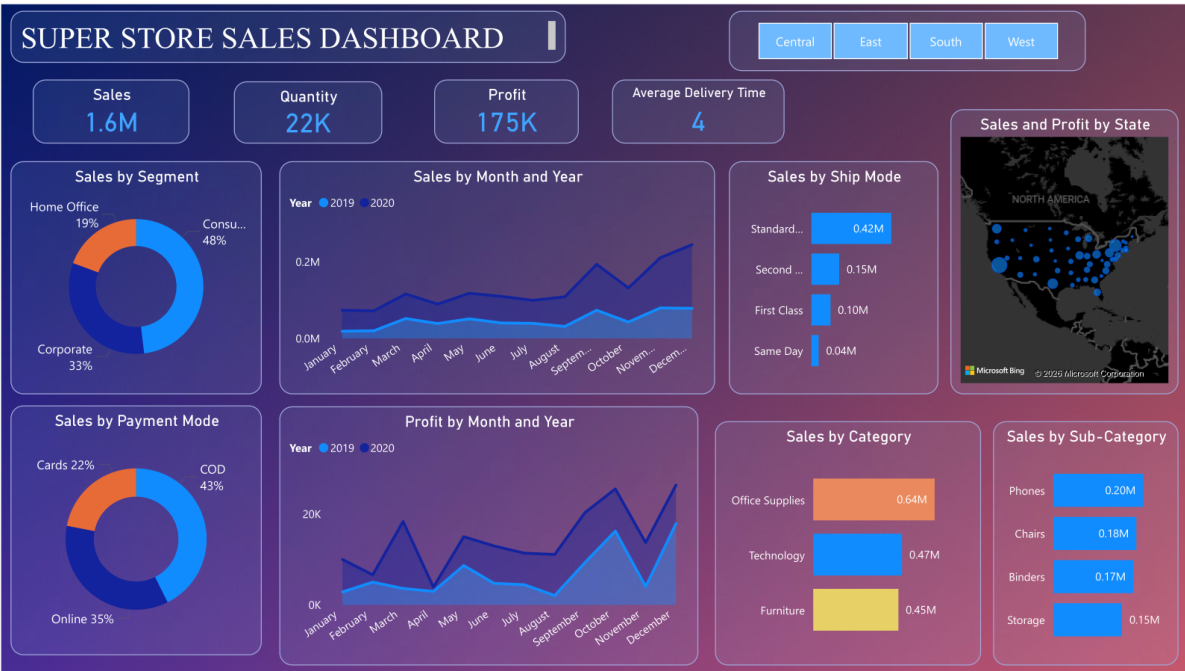

Layout of this report page (visuals, bound fields, positions):
{"tool":"powerbi","page":{"name":"Page 1","canvas":[1280,720],"ordinal":0},"visuals":[{"type":"clusteredBarChart","title":"Sales by Category","fields":{"Category":["SuperStore_Sales_Dataset.Category"],"Y":["Sum(SuperStore_Sales_Dataset.Sales)"]},"box":[769.7,448.8,287.1,263],"z":0},{"type":"clusteredBarChart","title":"Sales by Sub-Category","fields":{"Y":["Sum(SuperStore_Sales_Dataset.Sales)"],"Category":["SuperStore_Sales_Dataset.Sub-Category"]},"box":[1070.1,448.8,200.3,263],"z":1000},{"type":"clusteredBarChart","title":"Sales by Ship Mode","fields":{"Y":["Sum(SuperStore_Sales_Dataset.Sales)"],"Category":["SuperStore_Sales_Dataset.Ship Mode"]},"box":[785.4,168.9,225.6,250.9],"z":2000},{"type":"stackedAreaChart","title":"Sales by Month and Year","fields":{"Y":["Sum(SuperStore_Sales_Dataset.Sales)"],"Category":["SuperStore_Sales_Dataset.Order Date.Variation.Date Hierarchy.Month","SuperStore_Sales_Dataset.Order Date.Variation.Date Hierarchy.Day"],"Series":["SuperStore_Sales_Dataset.Order Date.Variation.Date Hierarchy.Year"]},"box":[300.4,168.9,469.3,250.9],"z":3000},{"type":"stackedAreaChart","title":"Profit by Month and Year","fields":{"Category":["SuperStore_Sales_Dataset.Order Date.Variation.Date Hierarchy.Month","SuperStore_Sales_Dataset.Order Date.Variation.Date Hierarchy.Day"],"Series":["SuperStore_Sales_Dataset.Order Date.Variation.Date Hierarchy.Year"],"Y":["Sum(SuperStore_Sales_Dataset.Profit)"]},"box":[300.4,433.1,451.2,278.7],"z":4000},{"type":"map","title":"Sales and Profit by State","fields":{"Category":["SuperStore_Sales_Dataset.State"],"Size":["Sum(SuperStore_Sales_Dataset.Sales)"]},"box":[1024.3,113.4,246.1,306.4],"z":5000},{"type":"donutChart","title":"Sales by Segment","fields":{"Category":["SuperStore_Sales_Dataset.Segment"],"Y":["Sum(SuperStore_Sales_Dataset.Sales)"]},"box":[9.7,168.9,271.4,250.9],"z":6000},{"type":"donutChart","title":"Sales by Payment Mode","fields":{"Y":["Sum(SuperStore_Sales_Dataset.Sales)"],"Category":["SuperStore_Sales_Dataset.Payment Mode"]},"box":[9.7,431.9,271.4,269],"z":7000},{"type":"slicer","fields":{"Values":["SuperStore_Sales_Dataset.Region"]},"box":[785.4,7.2,384.9,65.1],"z":8000},{"type":"textbox","box":[9.7,7.2,599.6,55.5],"z":9000},{"type":"card","title":"Sales","fields":{"Values":["Sum(SuperStore_Sales_Dataset.Sales)"]},"box":[33.8,80.8,168.9,68.8],"z":10000},{"type":"card","title":"Average Delivery Time","fields":{"Values":["Avg(SuperStore_Sales_Dataset.AvgDeliveryTime)"]},"box":[658.7,80.8,185.8,68.8],"z":11000},{"type":"card","title":"Profit","fields":{"Values":["Sum(SuperStore_Sales_Dataset.Profit)"]},"box":[466.9,80.8,155.6,68.8],"z":12000},{"type":"card","title":"Quantity","fields":{"Values":["Sum(SuperStore_Sales_Dataset.Quantity)"]},"box":[250.9,83.2,160.5,66.4],"z":13000}]}

Visuals, with their boxes in screenshot pixels (x1, y1, x2, y2), scaled from the page's 1280x720 canvas onto the 1185x671 screenshot:
"Sales by Category" clusteredBarChart: [713, 418, 978, 663]
"Sales by Sub-Category" clusteredBarChart: [991, 418, 1176, 663]
"Sales by Ship Mode" clusteredBarChart: [727, 157, 936, 391]
"Sales by Month and Year" stackedAreaChart: [278, 157, 713, 391]
"Profit by Month and Year" stackedAreaChart: [278, 404, 696, 663]
"Sales and Profit by State" map: [948, 106, 1176, 391]
"Sales by Segment" donutChart: [9, 157, 260, 391]
"Sales by Payment Mode" donutChart: [9, 403, 260, 653]
slicer - SuperStore_Sales_Dataset.Region: [727, 7, 1083, 67]
textbox: [9, 7, 564, 58]
"Sales" card: [31, 75, 188, 139]
"Average Delivery Time" card: [610, 75, 782, 139]
"Profit" card: [432, 75, 576, 139]
"Quantity" card: [232, 78, 381, 139]
